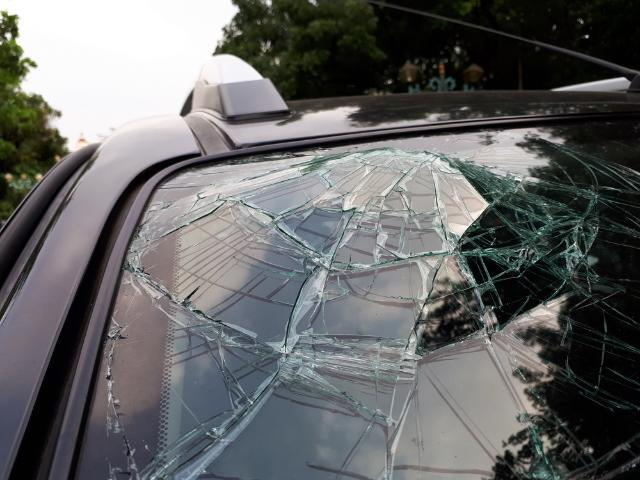glass shatter: (72, 115, 640, 480)
